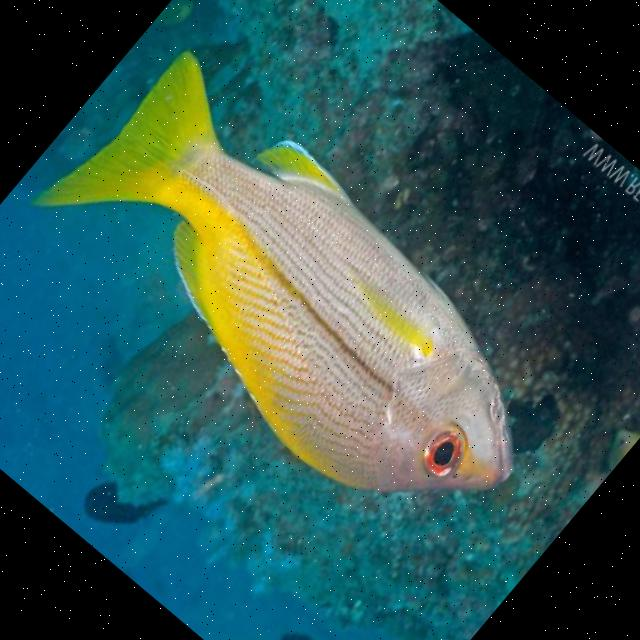ikan: (11, 32, 588, 572)
